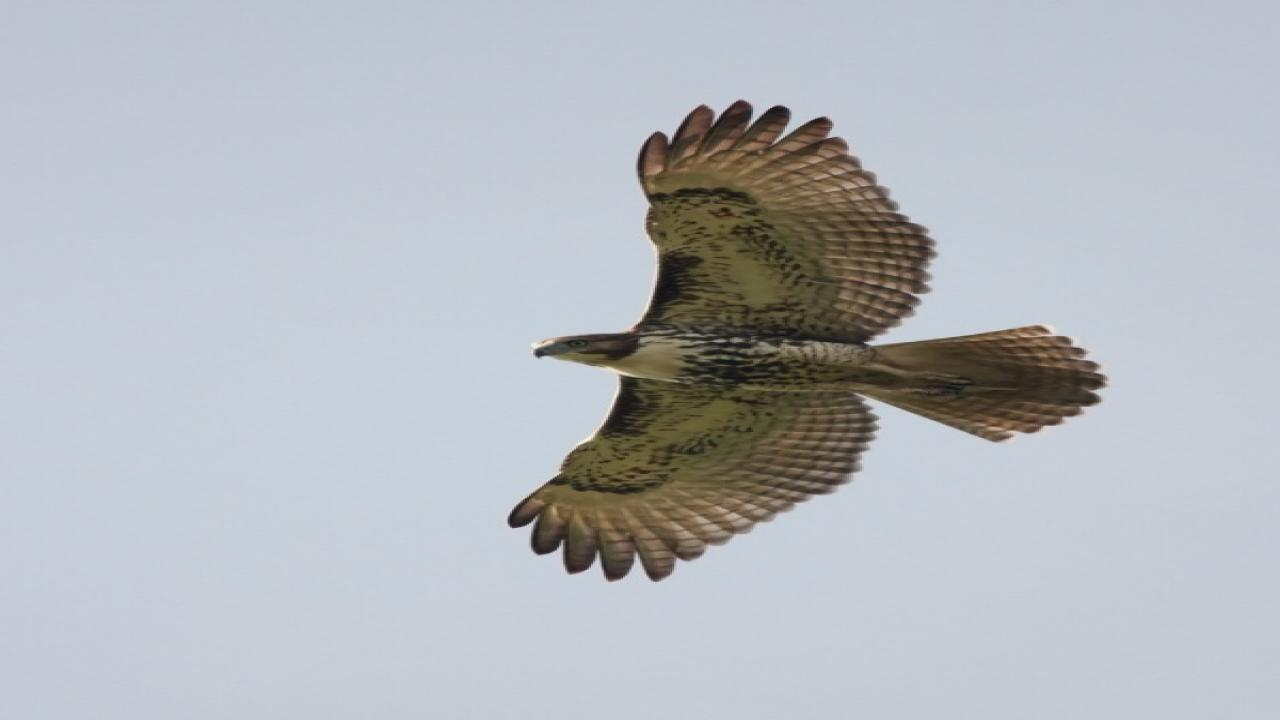Bird: (489, 93, 1122, 592)
